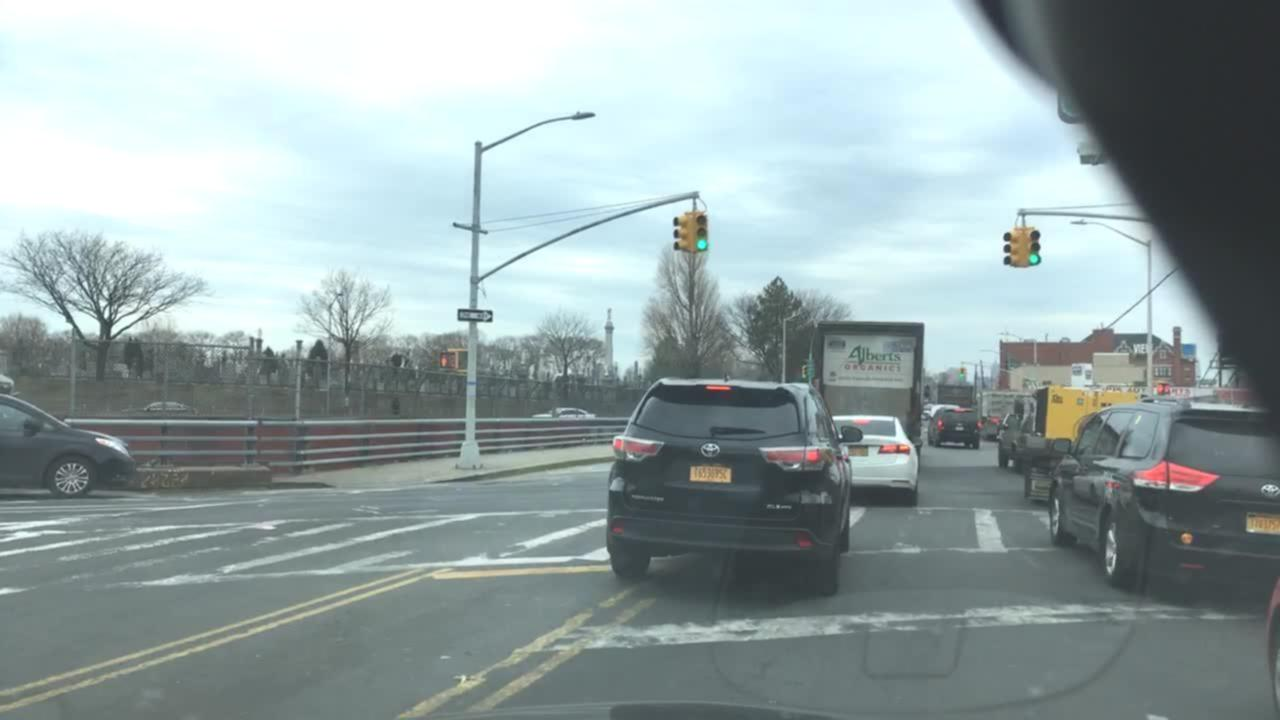Toyota: (694, 436, 732, 460), (1258, 482, 1280, 500)
